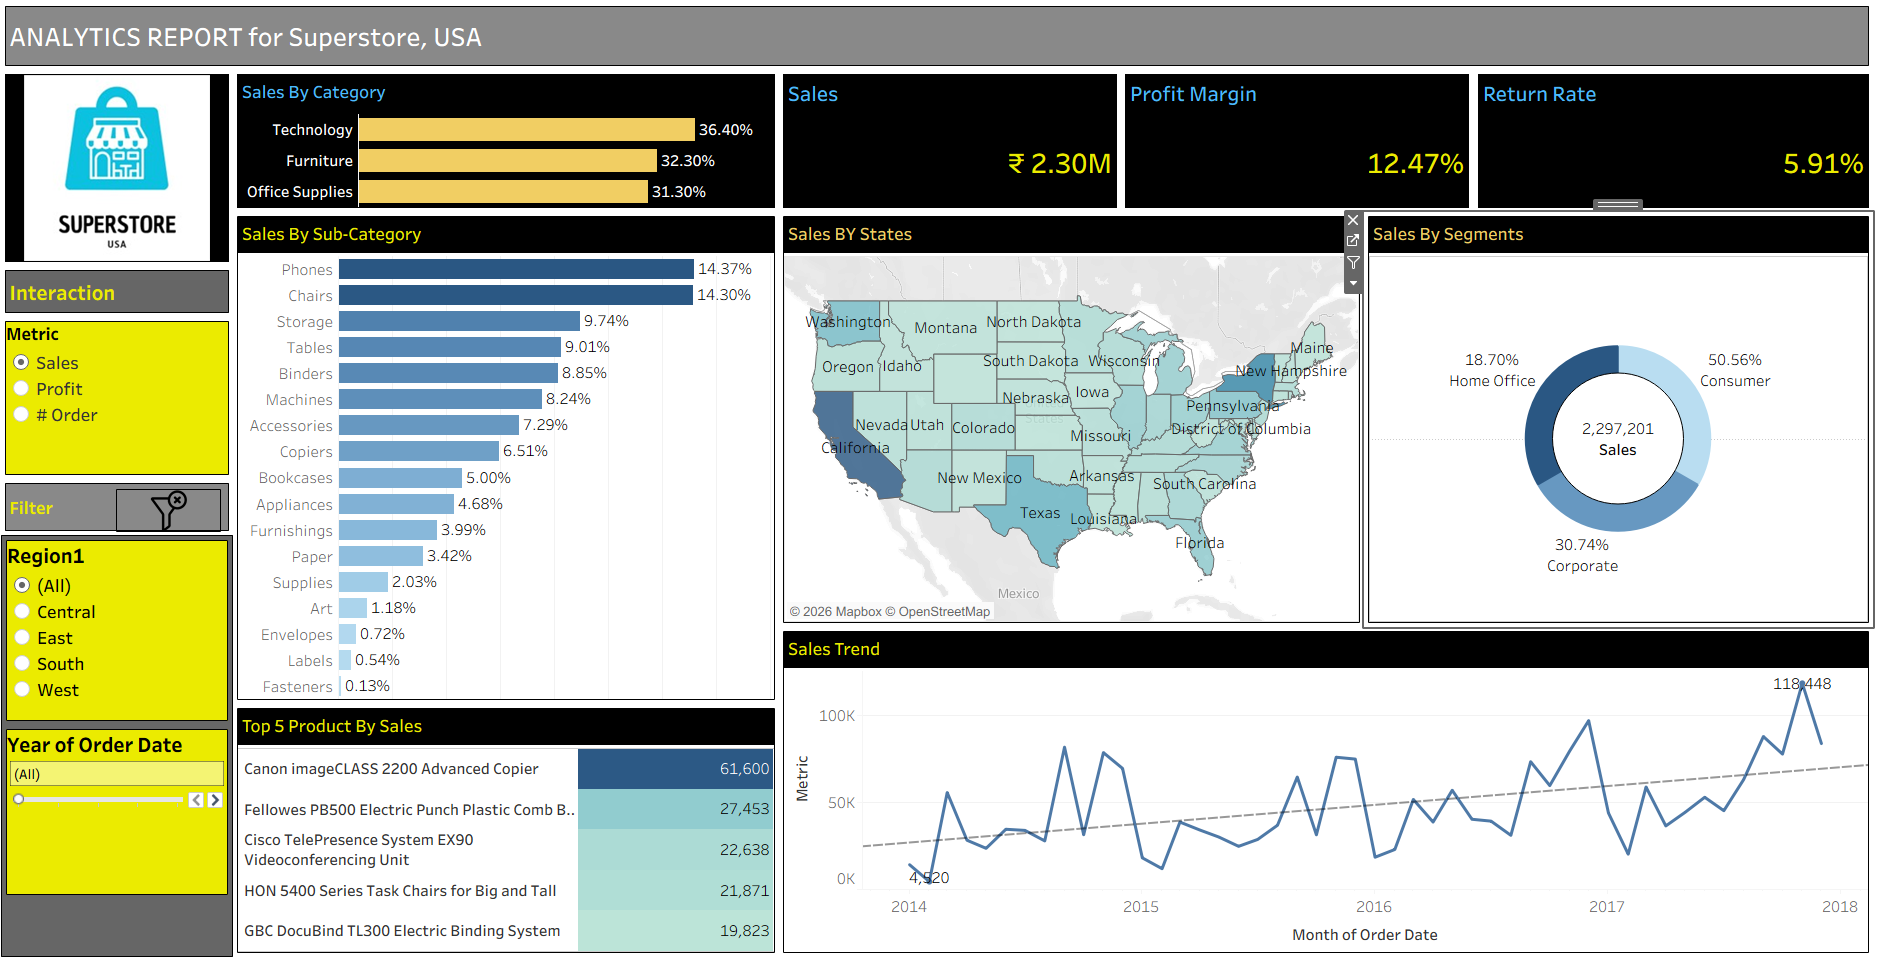

Layout of this report page (visuals, bound fields, positions):
{"tool":"tableau","page":{"name":"Dashboard 1","canvas":[1000,1000],"units":"permille","ordinal":0},"visuals":[{"type":"text","box":[4.8,8.2,990.3,70]},{"type":"image","param":"C:/Users/ASUS/Pictures/Screenshots/Picture1.jpg","box":[4.8,78.3,122.5,201.8]},{"type":"worksheet","title":"Category","mark":"Automatic","rows":["Category"],"cols":["Calculation_0943434717696014"],"box":[127.3,78.3,289.1,146.3]},{"type":"worksheet","title":"Metric","mark":"Automatic","box":[416.4,78.3,181.1,146.3]},{"type":"worksheet","title":"Profit Margin","mark":"Automatic","box":[597.5,78.3,186.5,146.3]},{"type":"worksheet","title":"Return Rate","mark":"Automatic","box":[783.9,78.3,211.2,146.3]},{"type":"worksheet","title":"Sub-Category","mark":"Automatic","rows":["Sub-Category"],"cols":["Calculation_0943434717696014"],"box":[127.3,224.6,289.1,507]},{"type":"worksheet","title":"Map","mark":"Multipolygon","box":[416.4,224.6,309.6,427.6]},{"type":"worksheet","title":"Donut","mark":"Pie","rows":["Calculation_0943434731315218","Calculation_0943434731347988"],"box":[726,224.6,269.2,427.6]},{"type":"text","box":[4.8,280.1,122.5,52.5]},{"type":"parameter","param":"[Parameters].[Parameter 2]","box":[4.8,332.7,122.5,166.8]},{"type":"text","box":[4.8,499.5,122.5,57.7]},{"type":"dashboard-object","box":[65.2,509.8,55.5,44.3]},{"type":"filter","title":"Metric","param":"[federated.14uoi2c0yaijqs10bc3hz1764uo5].[none:Region:nk]","box":[5.4,558.2,121.3,194.7]},{"type":"worksheet","title":"Line","mark":"Automatic","rows":["Calculation_0943434717696014"],"cols":["Order Date"],"box":[416.4,652.2,578.8,339.6]},{"type":"worksheet","title":"Product","mark":"Square","rows":["Product Name"],"box":[127.3,731.6,289.1,260.2]},{"type":"filter","title":"Metric","param":"[federated.14uoi2c0yaijqs10bc3hz1764uo5].[yr:Order Date:ok]","box":[5.4,752.8,121.3,179.2]}]}

Visuals, with their boxes on the dashboard's canvas, which has no fixed pixel size, in thousandths of its width and height (x1, y1, x2, y2). These are canvas units, not pixel positions in the 1881x963 screenshot, which may show the page scaled, cropped or inside an application window:
text: select_region(5, 8, 995, 78)
image: select_region(5, 78, 127, 280)
"Category" worksheet: select_region(127, 78, 416, 225)
"Metric" worksheet: select_region(416, 78, 598, 225)
"Profit Margin" worksheet: select_region(598, 78, 784, 225)
"Return Rate" worksheet: select_region(784, 78, 995, 225)
"Sub-Category" worksheet: select_region(127, 225, 416, 732)
"Map" worksheet (Multipolygon marks): select_region(416, 225, 726, 652)
"Donut" worksheet (Pie marks): select_region(726, 225, 995, 652)
text: select_region(5, 280, 127, 333)
parameter: select_region(5, 333, 127, 500)
text: select_region(5, 500, 127, 557)
dashboard-object: select_region(65, 510, 121, 554)
"Metric" filter: select_region(5, 558, 127, 753)
"Line" worksheet: select_region(416, 652, 995, 992)
"Product" worksheet (Square marks): select_region(127, 732, 416, 992)
"Metric" filter: select_region(5, 753, 127, 932)
